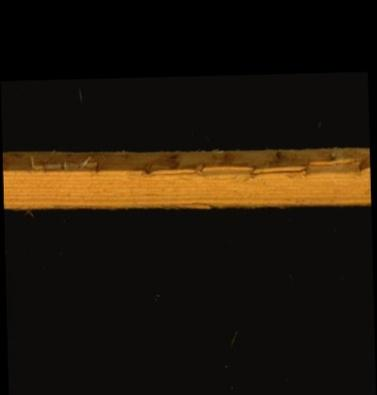wave: (2, 156, 368, 210)
